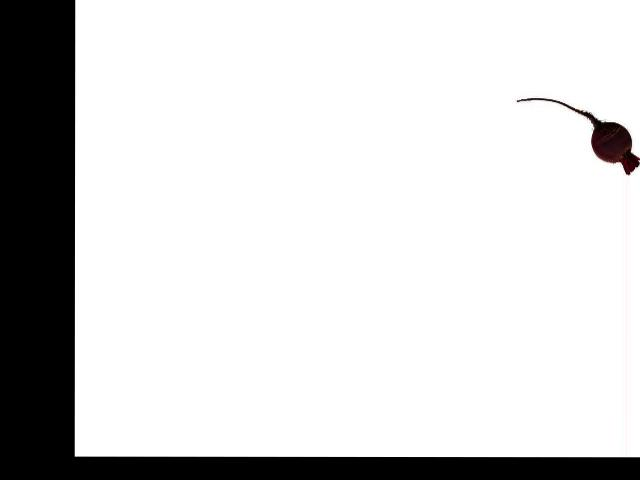beet: (515, 97, 639, 174)
